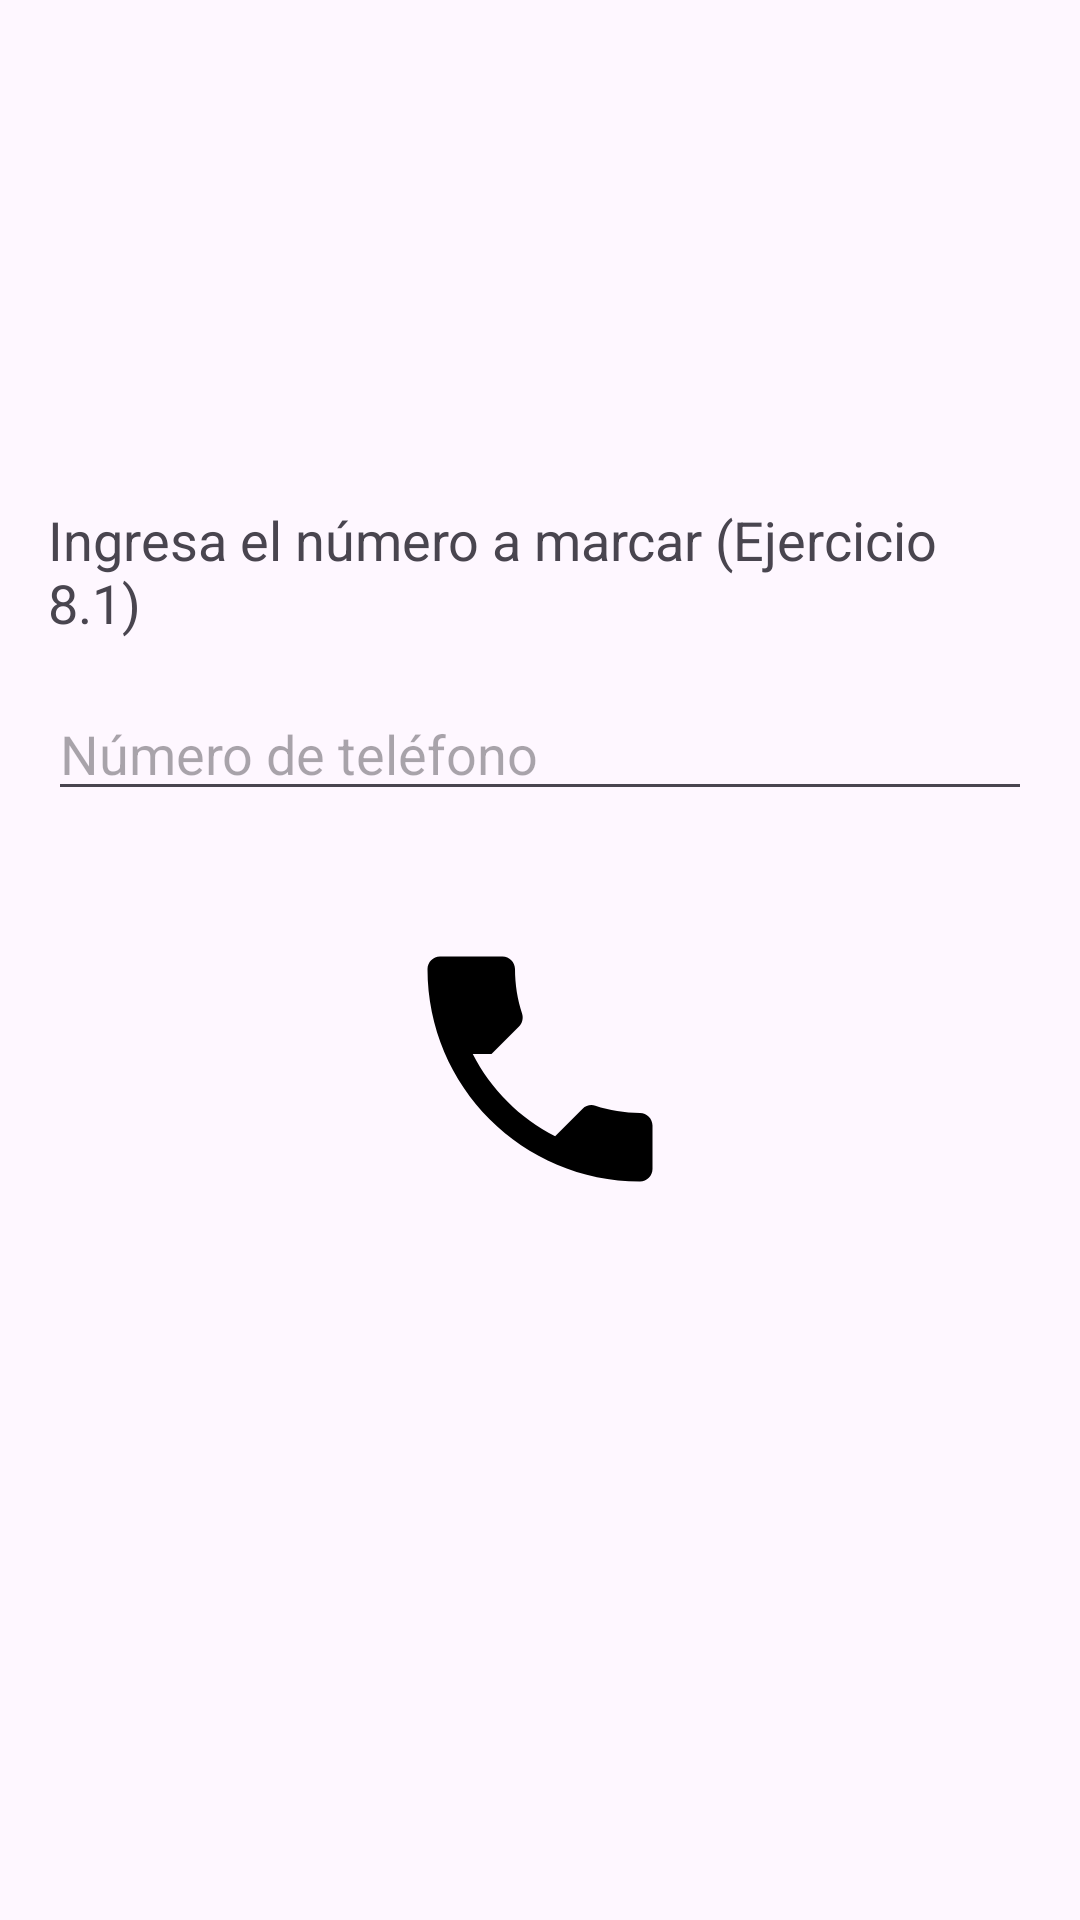

Screen size 1080 x 1920. Icon name, then its box in pixels as (x1, y1, x2, y2):
Icono de teléfono: (427, 956, 653, 1182)
